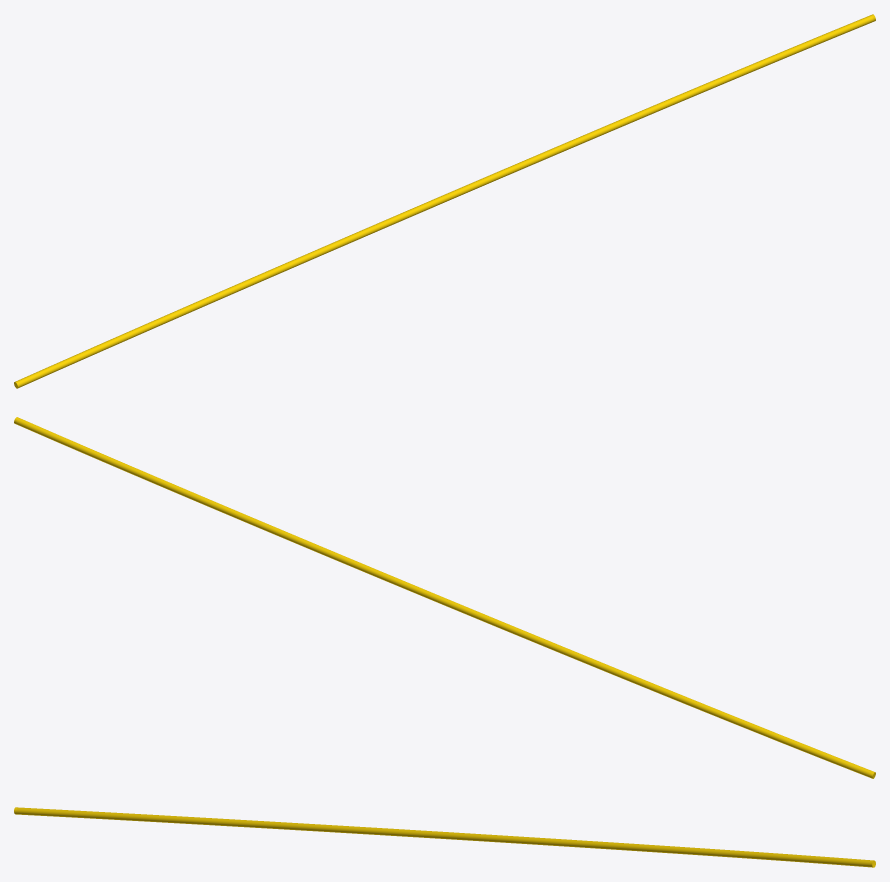
File: Event_421278790_track_21.fbx
3 renders of one model, top to bottom at view 1: azimuth 30°, elevation 25°; view 2: azimuth 150°, elevation 25°; view 3: azimuth 330°, elevation 25°, orthographic.
Parts seen in each view (by area): view 1: Model; view 2: Model; view 3: Model.
Part boxes in pixels (x1,y1,x2,y2): Model: [14, 14, 875, 388]; Model: [14, 417, 875, 778]; Model: [14, 807, 875, 867].
Bounding box in the file's own units: 5.49 × 0.9675 × 0.1119.
